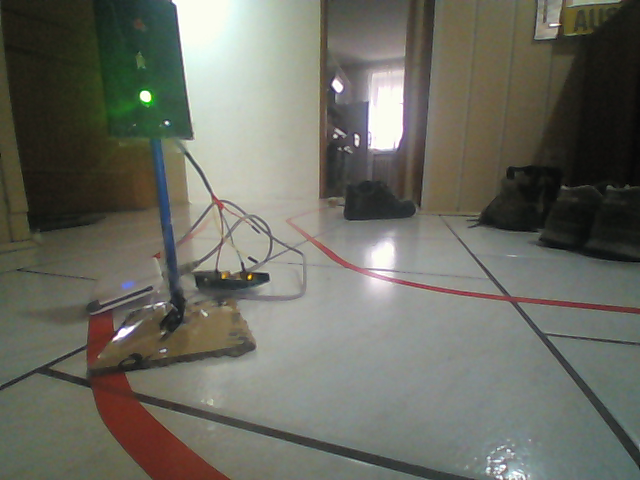green_sign: (89, 1, 198, 143)
